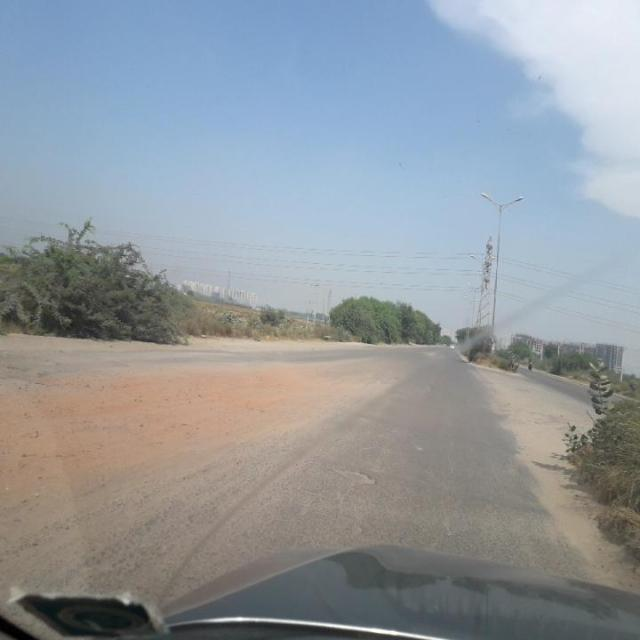D40: (0, 353, 379, 505), (329, 460, 378, 490)
